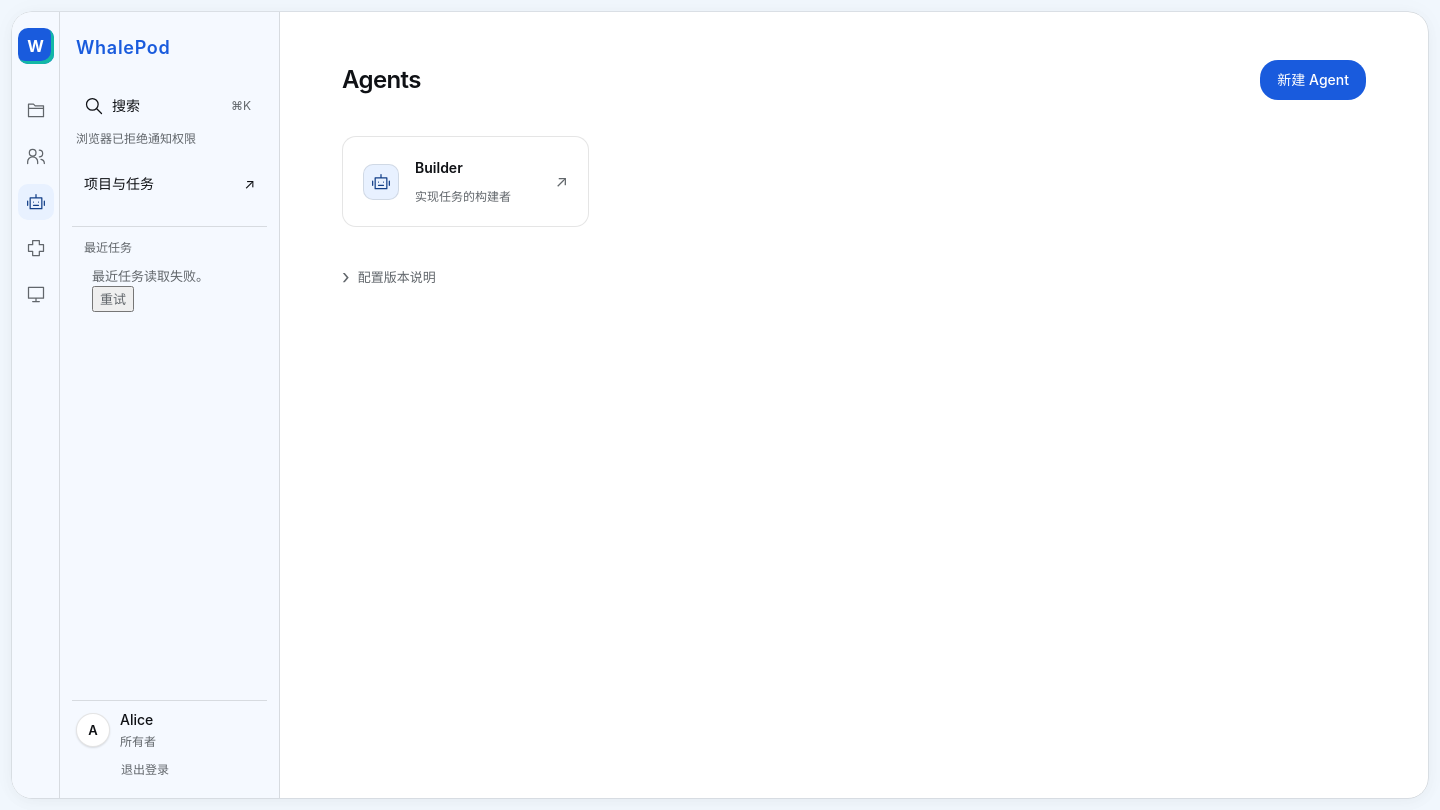
Test: #152 布局：内容容器与两栏栅格 › #167 Agents 页：左列 = 列表与 Revision 说明，右列 = 新建表单与选中详情
This screenshot has width=1440, height=810.
Click the button "Builder 实现任务的构建者 ↗" at coordinates (466, 182), box [342,136,589,227]
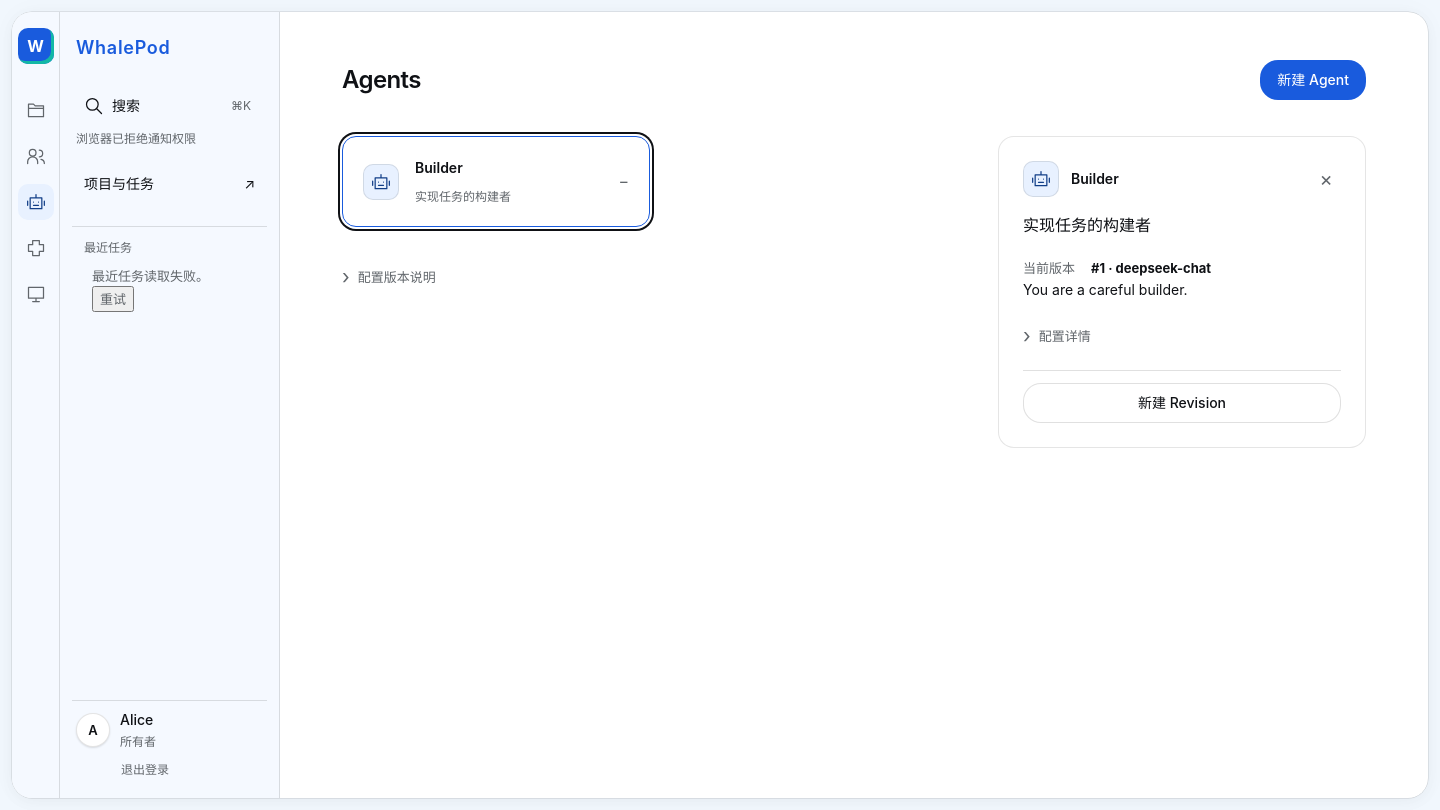
Expected: the element that starts with "Agents" is shown, [342,60,1366,448]
Expected: the text "#1 · deepseek-chat" is shown, [1091,258,1211,278]
Click the heading "配置版本说明" at coordinates (389, 277), box [342,259,436,295]
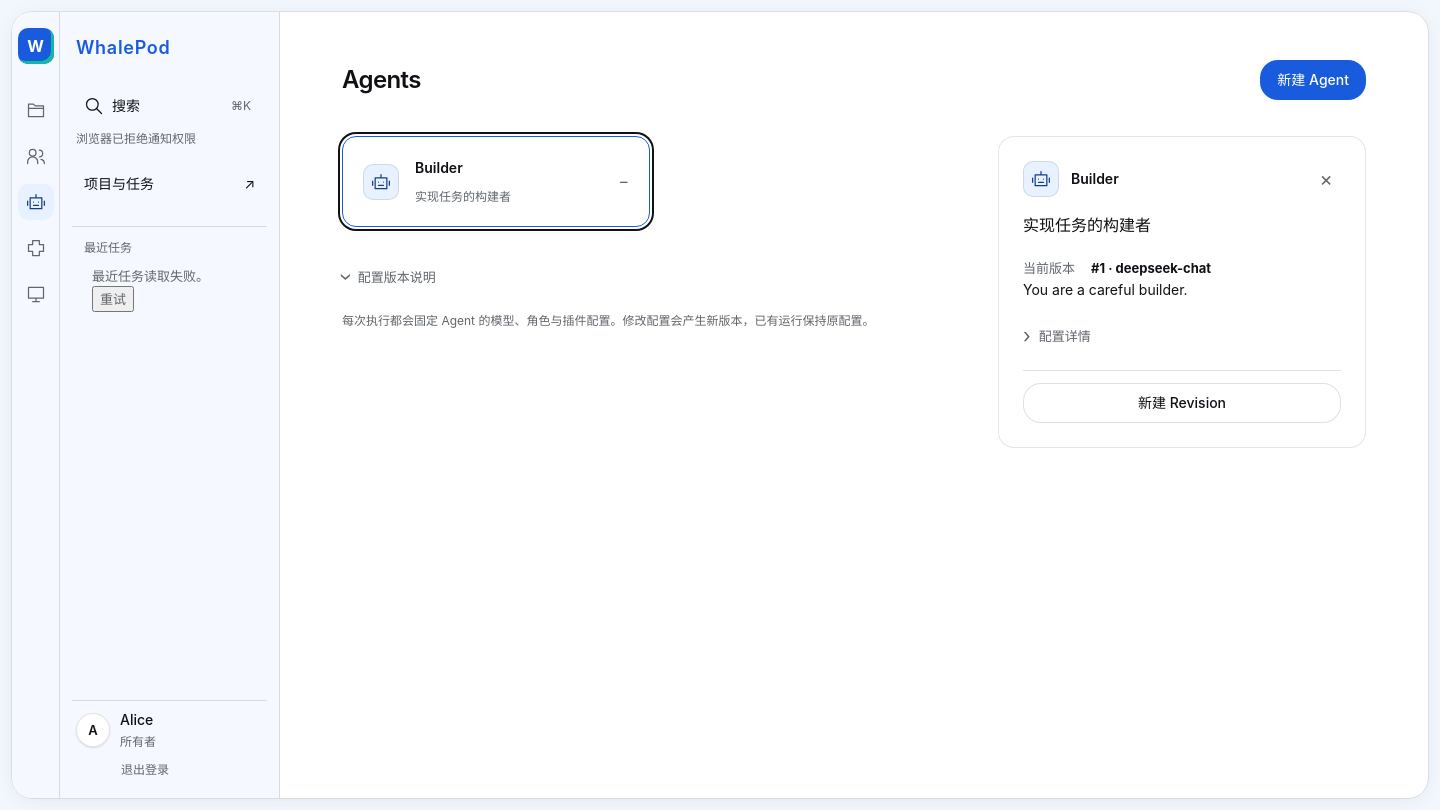
Expected: the element named "Agent 详情" is shown, [998,136,1366,448]
Expected: the heading "Builder" is shown, [1071,170,1119,187]
Expected: the text "每次执行都会固定 Agent 的模型、角色与插件配置。修改配置会产生新版本，已有运行保持原配置。" is shown, [342,313,874,328]
